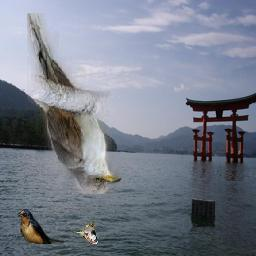Cuckoo: (28, 14, 123, 195)
Sparrow: (74, 222, 98, 245)
Swallow: (18, 210, 65, 245)
